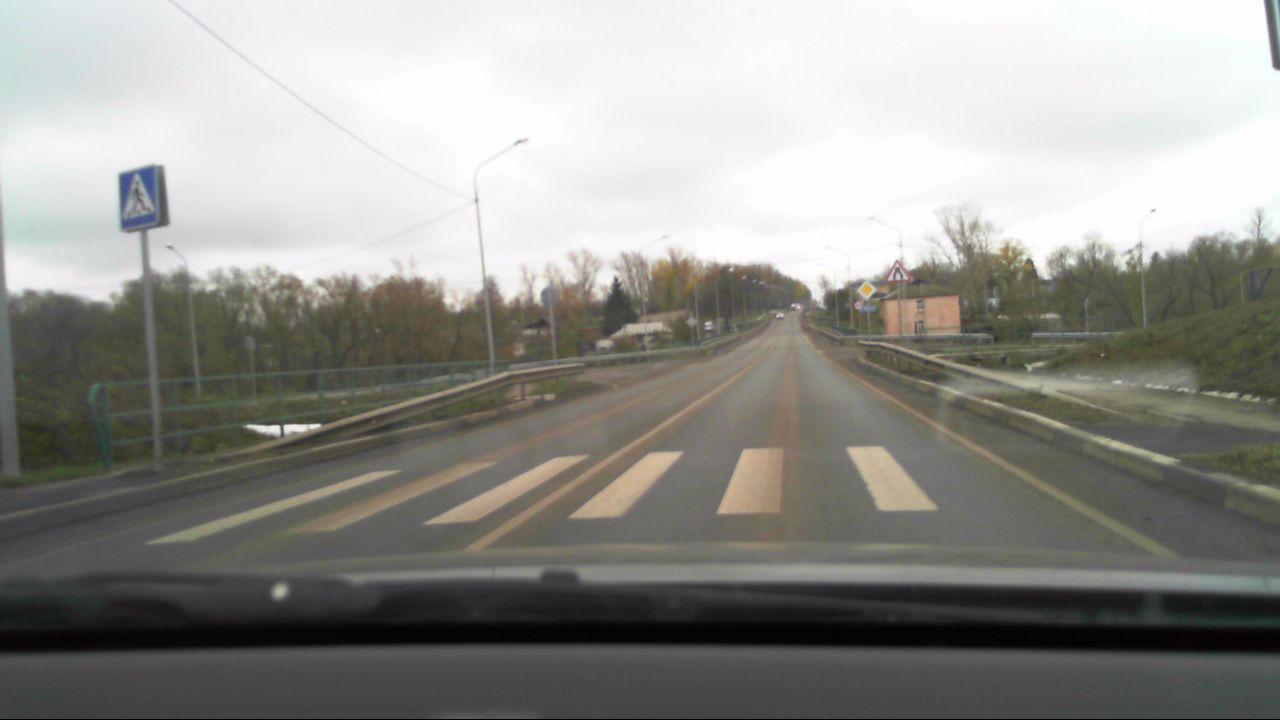1_20_1: (886, 259, 908, 279)
5_19_2: (116, 167, 166, 232)
